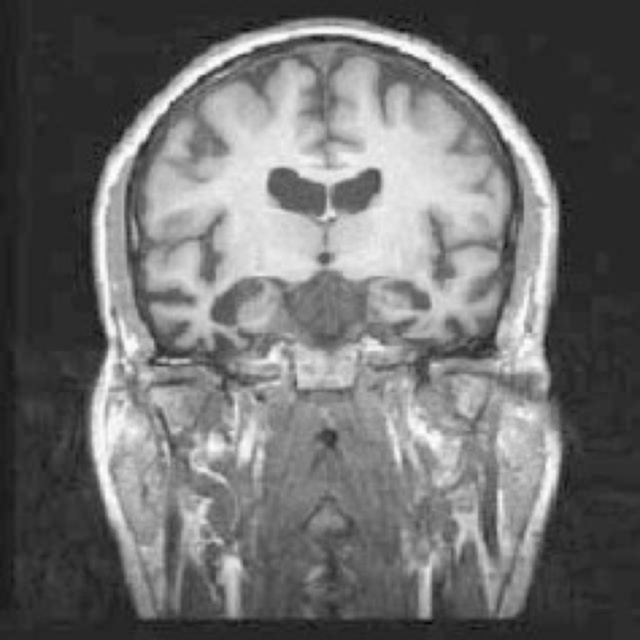glioma tumor: (143, 72, 502, 364)
